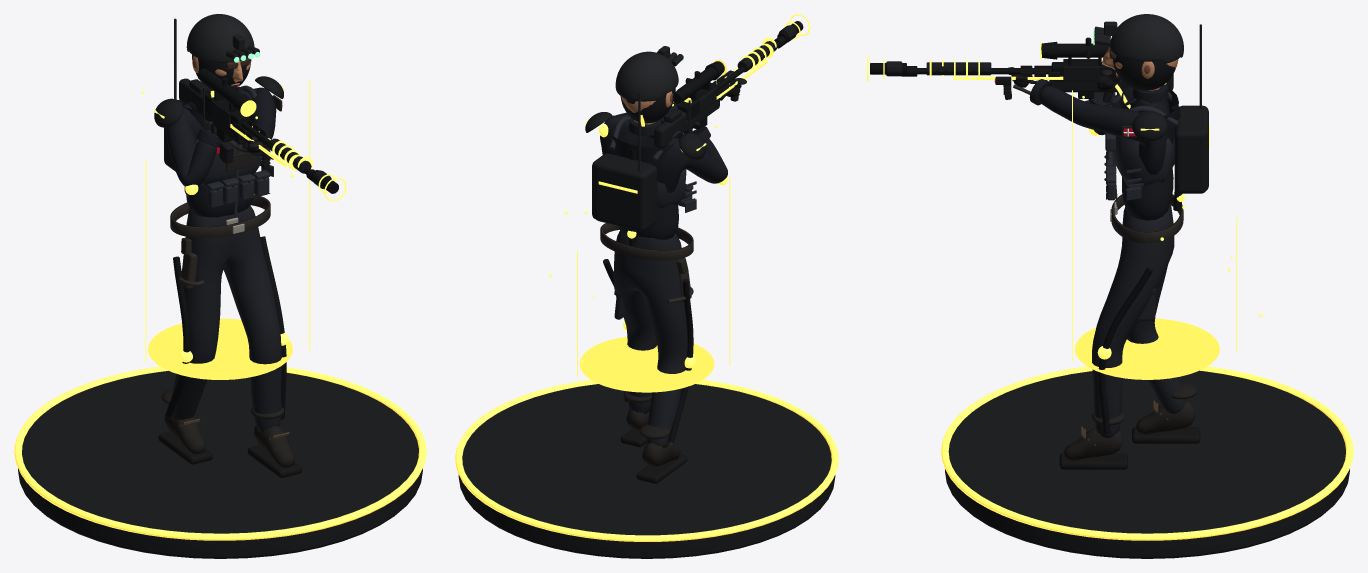
File: skytte_nat.glb
3 renders of one model, left to right at view 1: azimuth 30°, elevation 25°; view 2: azimuth 150°, elevation 25°; view 3: azimuth 270°, elevation 25°, orthographic. The views are drawn at different scales.
Parts seen in each view (by area): view 1: fod_net, menneske_net, op4.001_net, op1.001_net, hoved_net, vaaben_net, op4_net, op3.001_net, op3_net, op4.002_net, op2.001_net; view 2: fod_net, menneske_net, op4_net, op4.001_net, hoved_net, op1.001_net, vaaben_net, op3.001_net, op3_net, op4.002_net, ned4_net; view 3: fod_net, menneske_net, op4.001_net, hoved_net, op1.001_net, vaaben_net, ned4_net, op4_net, op3_net, op3.001_net, op4.002_net.
Part boxes in pixels (<box>): fod_net: <box>14,366,426,558</box>; menneske_net: <box>158,87,302,477</box>; op4.001_net: <box>141,80,310,379</box>; op1.001_net: <box>170,85,273,288</box>; hoved_net: <box>186,14,260,90</box>; vaaben_net: <box>179,68,314,181</box>; op4_net: <box>164,99,288,419</box>; op3.001_net: <box>154,18,284,127</box>; op3_net: <box>211,100,331,189</box>; op4.002_net: <box>210,90,346,201</box>; op2.001_net: <box>183,146,289,437</box>; fod_net: <box>455,380,838,558</box>; menneske_net: <box>600,78,746,483</box>; op4_net: <box>595,123,727,442</box>; op4.001_net: <box>549,104,730,392</box>; hoved_net: <box>615,46,683,123</box>; op1.001_net: <box>600,100,710,303</box>; vaaben_net: <box>654,36,787,148</box>; op3.001_net: <box>585,93,706,171</box>; op3_net: <box>697,25,796,113</box>; op4.002_net: <box>640,14,810,126</box>; ned4_net: <box>592,153,696,218</box>; fod_net: <box>941,366,1353,558</box>; menneske_net: <box>1008,67,1200,469</box>; op4.001_net: <box>1072,90,1262,379</box>; hoved_net: <box>1093,14,1183,90</box>; op1.001_net: <box>1030,76,1183,243</box>; vaaben_net: <box>901,37,1173,103</box>; ned4_net: <box>1126,107,1206,197</box>; op4_net: <box>1089,105,1209,434</box>; op3_net: <box>886,59,1099,101</box>; op3.001_net: <box>1132,24,1201,141</box>; op4.002_net: <box>867,56,1166,108</box>.
Bounding box in the file's own units: 1.94 × 2.37 × 2.28.
